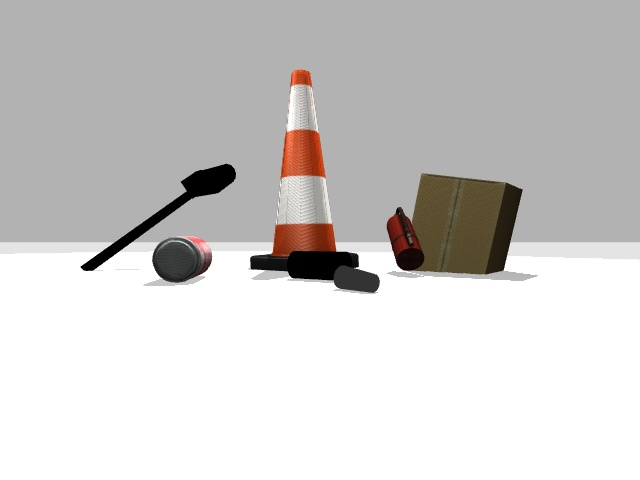boite_lettres: (81, 164, 235, 270)
bouteille_verre: (287, 251, 357, 279)
canette: (152, 236, 211, 282)
carton: (411, 174, 521, 273)
cone_chantier: (250, 70, 337, 270)
gobelet: (334, 266, 379, 292)
